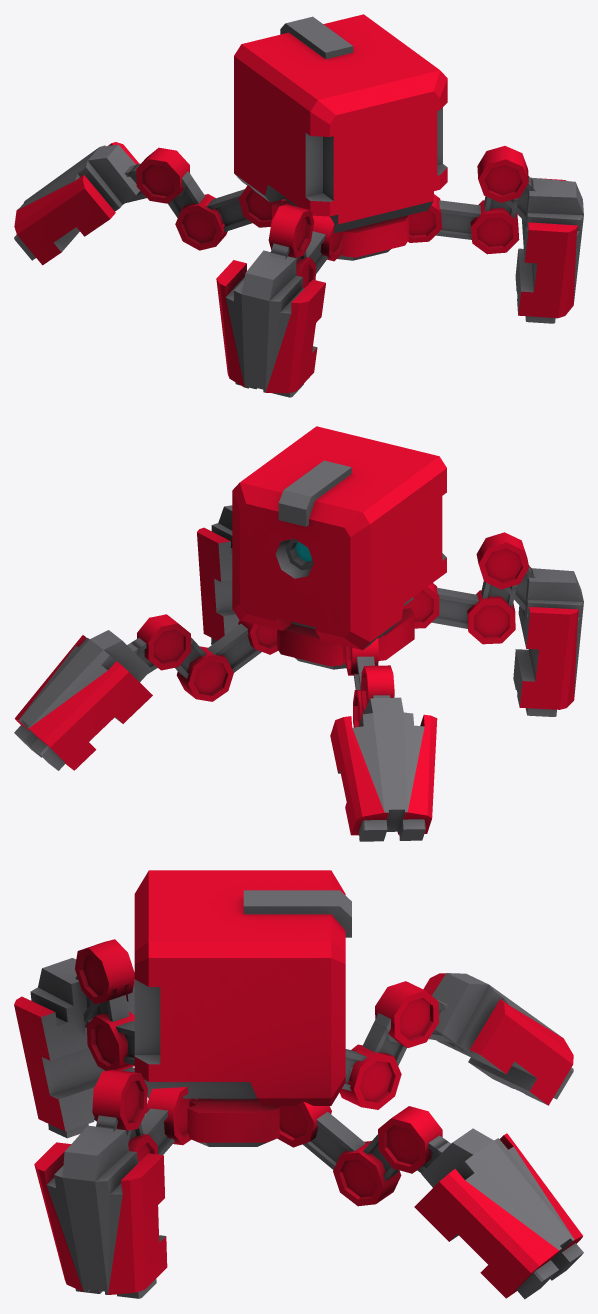
The model's file is Monster1_Attack13.obj.
The picture shows the model from 3 angles, top to bottom: view 1: azimuth 30°, elevation 25°; view 2: azimuth 150°, elevation 25°; view 3: azimuth 270°, elevation 25°; orthographic projection. The views are drawn at different scales.
Visible parts, largest first — view 1: Box006, Object021, Object025, Object017, Object020, Object027, Object028, Object018, Object019, Object024, Object026, Object022 (+1 smaller); view 2: Box006, Object025, Object013, Object021, Object017, Object024, Object016, Object023, Object015, Object022, Object014, Object028 (+1 smaller); view 3: Box006, Object017, Object013, Object025, Object021, Object027, Object016, Object014, Object028, Object024, Object020, Object015 (+3 smaller).
Part boxes in pixels (x1,y1,x2,y2): Box006: (234, 14, 447, 260); Object021: (216, 250, 325, 397); Object025: (14, 142, 140, 265); Object017: (515, 177, 583, 323); Object020: (477, 146, 535, 222); Object027: (168, 171, 227, 250); Object028: (124, 147, 189, 203); Object018: (408, 194, 480, 242); Object019: (470, 196, 519, 254); Object024: (268, 204, 313, 260); Object026: (206, 185, 285, 232); Object022: (306, 215, 342, 273); Box006: (232, 426, 446, 669); Object025: (330, 697, 437, 841); Object013: (14, 630, 152, 770); Object021: (513, 568, 583, 716); Object017: (197, 505, 239, 644); Object024: (476, 532, 535, 611); Object016: (127, 614, 190, 673); Object023: (467, 581, 517, 644); Object015: (175, 637, 233, 701); Object022: (403, 583, 478, 628); Object014: (207, 620, 278, 672); Object028: (360, 665, 394, 712); Box006: (134, 870, 351, 1146); Object017: (34, 1125, 167, 1298); Object013: (414, 1128, 583, 1299); Object025: (423, 973, 573, 1105); Object021: (14, 958, 134, 1138); Object027: (339, 1013, 406, 1109); Object016: (378, 1106, 450, 1173); Object014: (275, 1102, 365, 1169); Object028: (375, 981, 452, 1047); Object024: (75, 939, 134, 1021); Object020: (92, 1069, 147, 1143); Object015: (333, 1134, 401, 1206).
Size of the model in its own units: 157 by 94.87 by 159.
